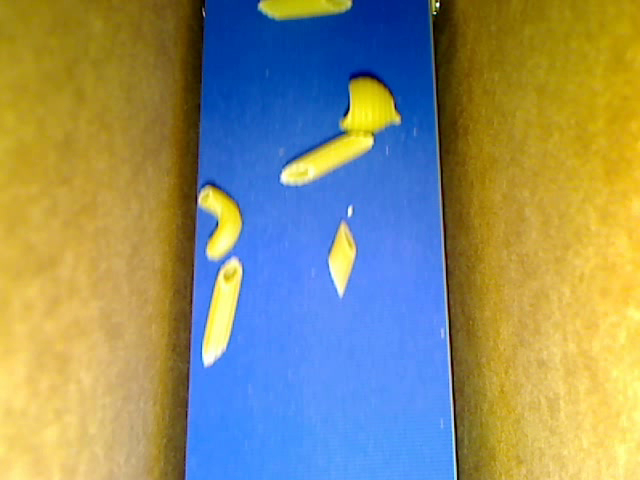elbow: (197, 184, 242, 261)
penne: (278, 130, 373, 186), (200, 257, 243, 367), (327, 219, 357, 298), (257, 1, 351, 23)
shell: (338, 76, 401, 136)
